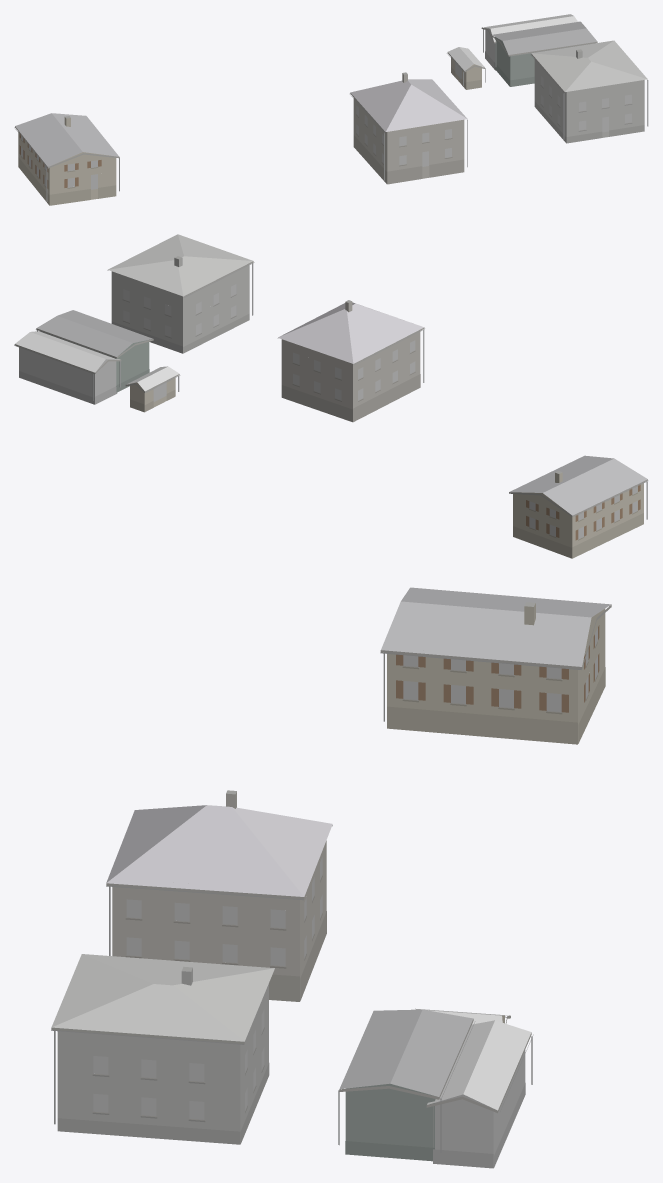
3 renders of one model, top to bottom at view 1: azimuth 30°, elevation 25°; view 2: azimuth 150°, elevation 25°; view 3: azimuth 270°, elevation 25°, orthographic. The views are drawn at different scales.
Parts seen in each view (by area): view 1: bld; view 2: bld; view 3: bld.
Part boxes in pixels (x1,y1,x2,y2): bld: (14, 14, 648, 205); bld: (14, 234, 648, 558); bld: (51, 587, 611, 1168).
Bounding box in the file's own units: 82.77 × 13.06 × 36.85.
